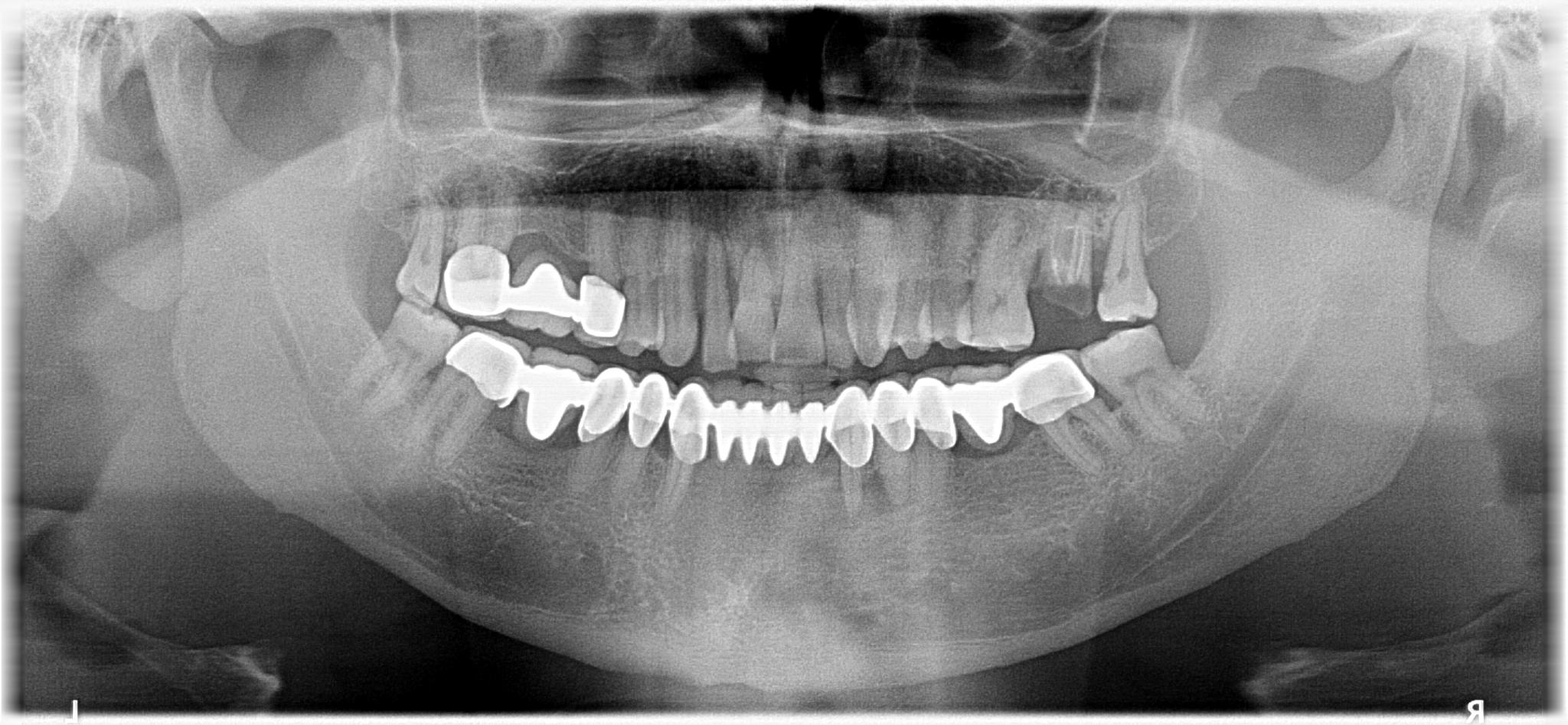Premolars: (542, 217, 1568, 427), (576, 160, 1568, 364), (240, 167, 690, 481)
